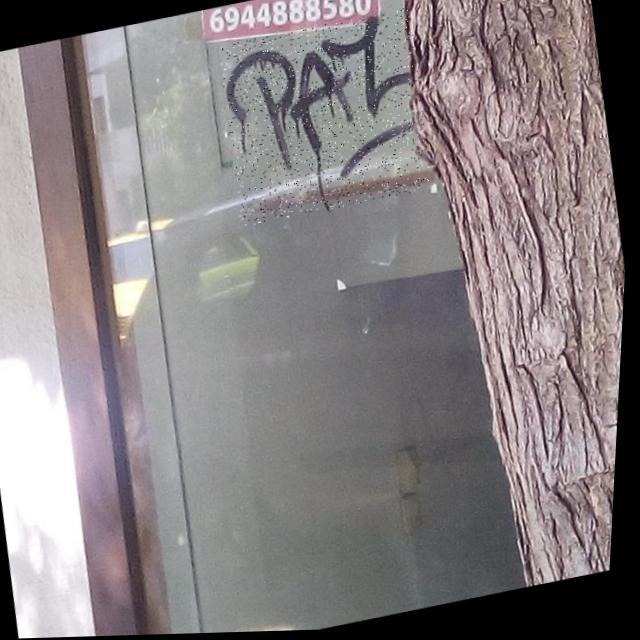-: (212, 8, 442, 230)
